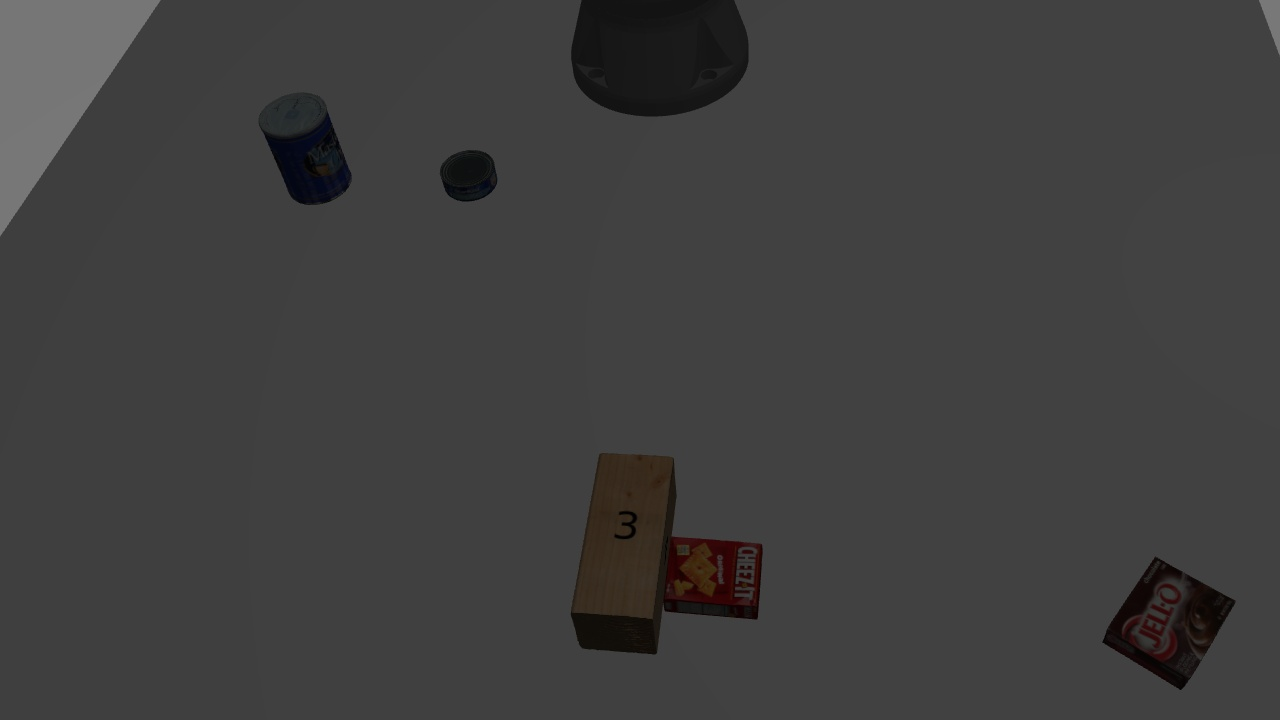cracker_box: (664, 532, 761, 609)
master_chef_can: (256, 92, 365, 211)
pudding_box: (1097, 551, 1237, 691)
tuna_fish_can: (433, 146, 500, 205)
wood_block: (566, 449, 680, 656)
